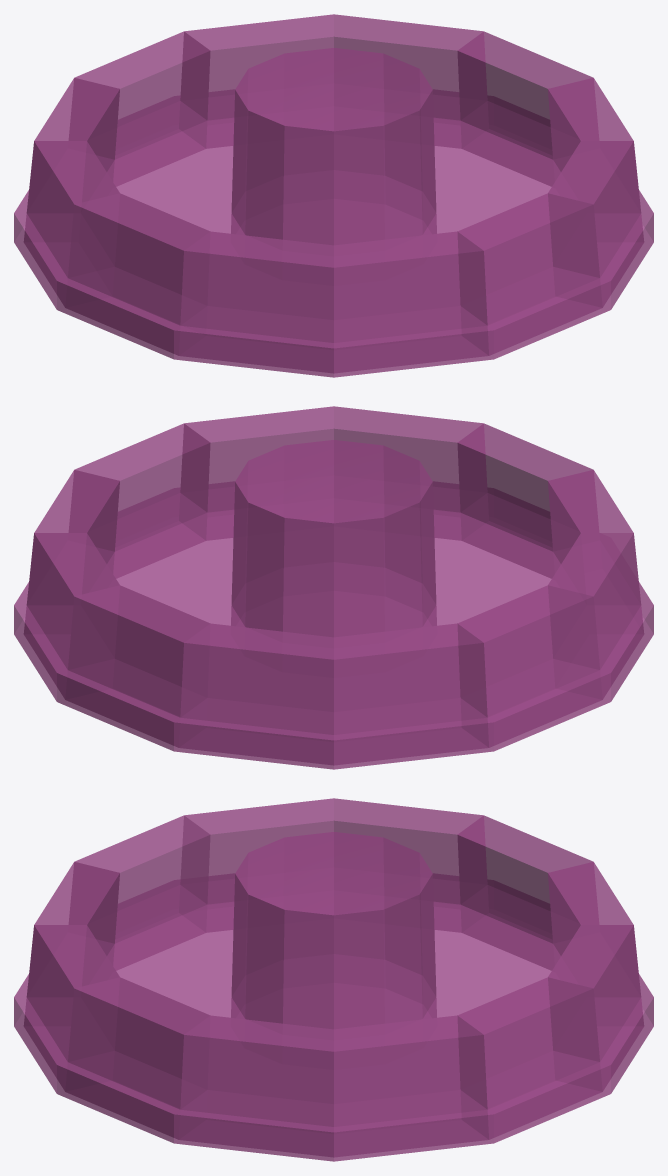
The model's file is SM_Prop_Fountain_Base_01_Collision.fbx.
3 renders of one model, top to bottom at view 1: azimuth 30°, elevation 25°; view 2: azimuth 150°, elevation 25°; view 3: azimuth 270°, elevation 25°, orthographic.
Parts seen in each view (by area): view 1: SM_Prop_Fountain_Base_01_Collision; view 2: SM_Prop_Fountain_Base_01_Collision; view 3: SM_Prop_Fountain_Base_01_Collision.
Boxes of the visible parts, x1,y1,x2,y2 form: SM_Prop_Fountain_Base_01_Collision: (14,14,653,377); SM_Prop_Fountain_Base_01_Collision: (14,406,653,769); SM_Prop_Fountain_Base_01_Collision: (14,798,653,1161).
Bounding box in the file's own units: 296 × 79.96 × 296.
